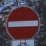No entry: (5, 5, 41, 41)
